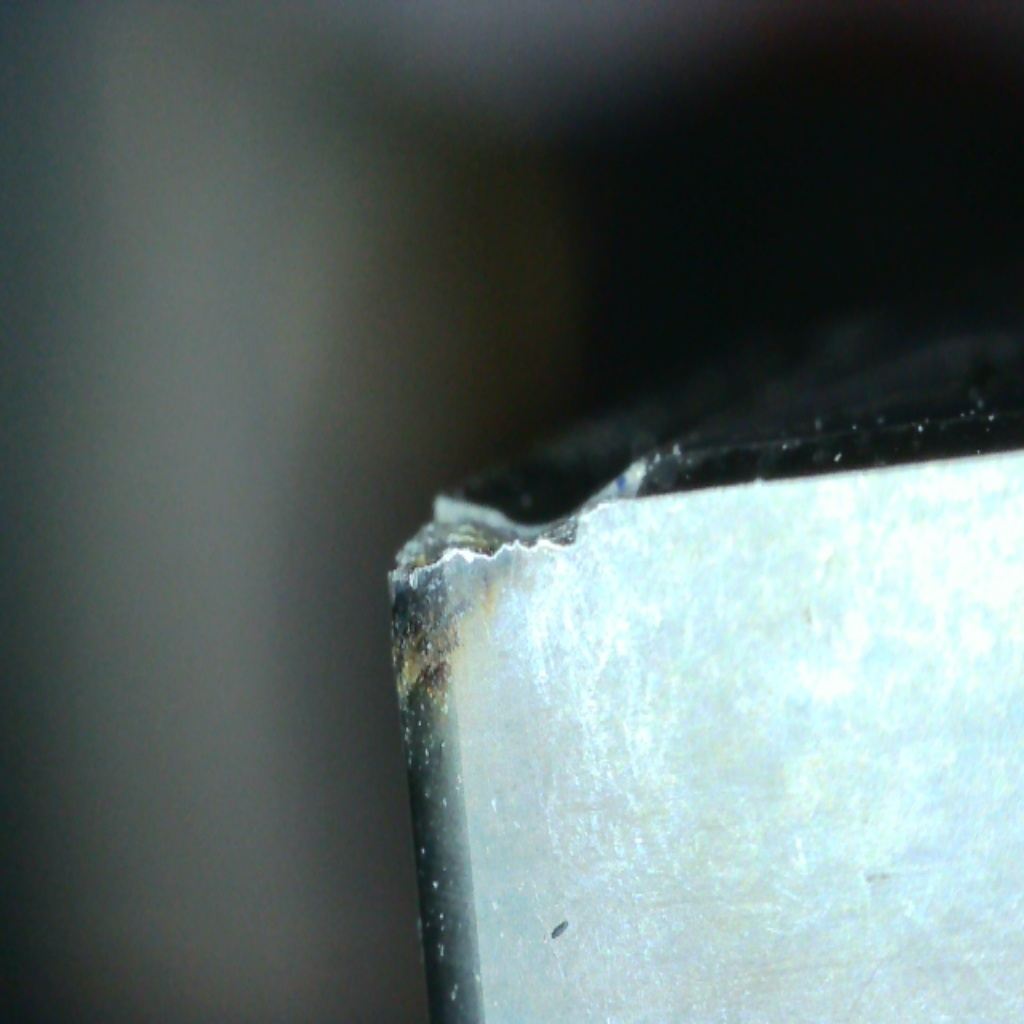flank_wear: (386, 532, 581, 624)
